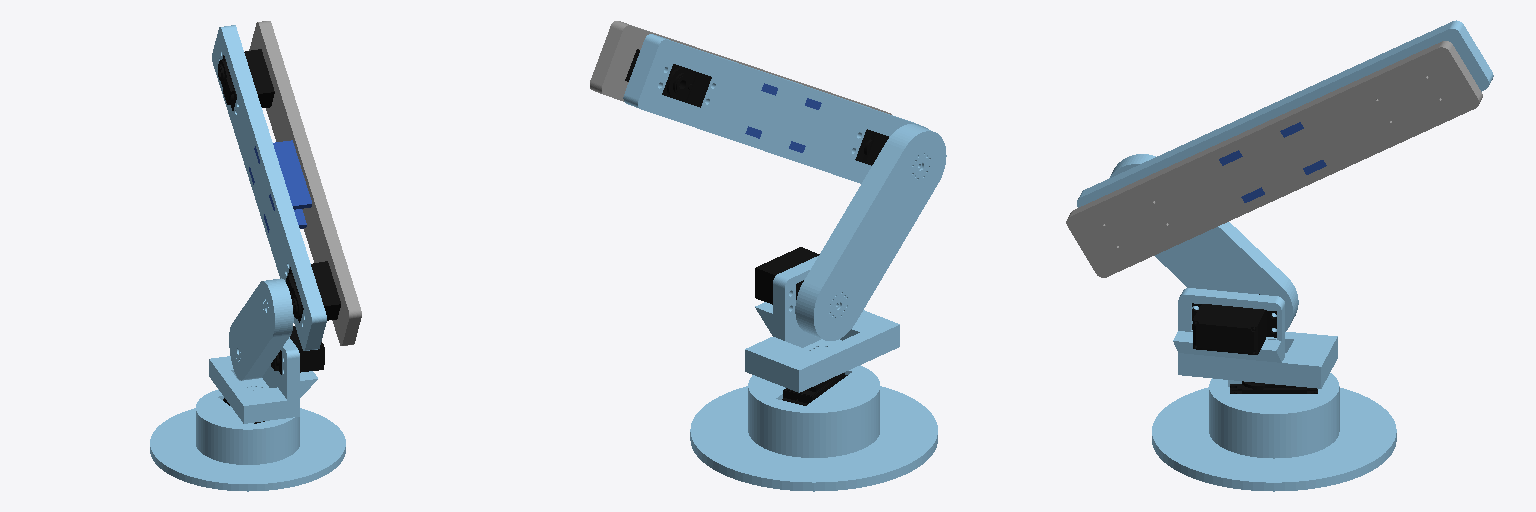
The robot description file, URDF, robot "my-robot-urdf":
<?xml version="1.0" ?>
<!-- Generated using onshape-to-robot -->
<!-- Onshape https://cad.onshape.com/documents/0de4613a5c9de88ea79adb1e/w/8792e248a8d8abb074fef312/e/2af6de9f4dabd1e46ce5ddd6 -->
<robot name="my-robot-urdf">
  <!-- Link base -->
  <link name="base">
    <inertial>
      <origin xyz="0 0 0" rpy="0 0 0"/>
      <mass value="1e-09"/>
      <inertia ixx="1e-09" ixy="0" ixz="0" iyy="1e-09" iyz="0" izz="1e-09"/>
    </inertial>
    <!-- Part base -->
    <visual>
      <origin xyz="0.054034 0.0421466 0.0127083" rpy="0 -0 0"/>
      <geometry>
        <mesh filename="package://perseus_arm/assets/base.stl"/>
      </geometry>
      <material name="base_material">
        <color rgba="0.615686 0.811765 0.929412 1"/>
      </material>
    </visual>
    <collision>
      <origin xyz="0.054034 0.0421466 0.0127083" rpy="0 -0 0"/>
      <geometry>
        <mesh filename="package://perseus_arm/assets/base.stl"/>
      </geometry>
    </collision>
  </link>
  <!-- Link compound -->
  <link name="compound">
    <inertial>
      <origin xyz="0 0 0" rpy="0 0 0"/>
      <mass value="1e-09"/>
      <inertia ixx="1e-09" ixy="0" ixz="0" iyy="1e-09" iyz="0" izz="1e-09"/>
    </inertial>
    <!-- Part compound -->
    <visual>
      <origin xyz="0.0345 -0.005 6.93889e-18" rpy="3.14159 -5.6e-16 0"/>
      <geometry>
        <mesh filename="package://perseus_arm/assets/compound.stl"/>
      </geometry>
      <material name="compound_material">
        <color rgba="0.0980392 0.0980392 0.0980392 1"/>
      </material>
    </visual>
    <collision>
      <origin xyz="0.0345 -0.005 6.93889e-18" rpy="3.14159 -5.6e-16 0"/>
      <geometry>
        <mesh filename="package://perseus_arm/assets/compound.stl"/>
      </geometry>
    </collision>
  </link>
  <!-- Link arm_round -->
  <link name="arm_round">
    <inertial>
      <origin xyz="0 0 0" rpy="0 0 0"/>
      <mass value="1e-09"/>
      <inertia ixx="1e-09" ixy="0" ixz="0" iyy="1e-09" iyz="0" izz="1e-09"/>
    </inertial>
    <!-- Part arm_round -->
    <visual>
      <origin xyz="0 0 -0.003" rpy="1.5708 -0 0"/>
      <geometry>
        <mesh filename="package://perseus_arm/assets/arm_round.stl"/>
      </geometry>
      <material name="arm_round_material">
        <color rgba="0.0980392 0.0980392 0.0980392 1"/>
      </material>
    </visual>
    <collision>
      <origin xyz="0 0 -0.003" rpy="1.5708 -0 0"/>
      <geometry>
        <mesh filename="package://perseus_arm/assets/arm_round.stl"/>
      </geometry>
    </collision>
  </link>
  <!-- Link shoulder -->
  <link name="shoulder">
    <inertial>
      <origin xyz="0 0 0" rpy="0 0 0"/>
      <mass value="1e-09"/>
      <inertia ixx="1e-09" ixy="0" ixz="0" iyy="1e-09" iyz="0" izz="1e-09"/>
    </inertial>
    <!-- Part shoulder -->
    <visual>
      <origin xyz="-6.93889e-18 0 0" rpy="3.14159 -6.77458e-33 -3.13047e-17"/>
      <geometry>
        <mesh filename="package://perseus_arm/assets/shoulder.stl"/>
      </geometry>
      <material name="shoulder_material">
        <color rgba="0.615686 0.811765 0.929412 1"/>
      </material>
    </visual>
    <collision>
      <origin xyz="-6.93889e-18 0 0" rpy="3.14159 -6.77458e-33 -3.13047e-17"/>
      <geometry>
        <mesh filename="package://perseus_arm/assets/shoulder.stl"/>
      </geometry>
    </collision>
  </link>
  <!-- Link compound_2 -->
  <link name="compound_2">
    <inertial>
      <origin xyz="0 0 0" rpy="0 0 0"/>
      <mass value="1e-09"/>
      <inertia ixx="1e-09" ixy="0" ixz="0" iyy="1e-09" iyz="0" izz="1e-09"/>
    </inertial>
    <!-- Part compound_2 -->
    <visual>
      <origin xyz="0.0345 0.005 -0.0024" rpy="4.87141e-32 5.41686e-16 4.43655e-33"/>
      <geometry>
        <mesh filename="package://perseus_arm/assets/compound.stl"/>
      </geometry>
      <material name="compound_2_material">
        <color rgba="0.0980392 0.0980392 0.0980392 1"/>
      </material>
    </visual>
    <collision>
      <origin xyz="0.0345 0.005 -0.0024" rpy="4.87141e-32 5.41686e-16 4.43655e-33"/>
      <geometry>
        <mesh filename="package://perseus_arm/assets/compound.stl"/>
      </geometry>
    </collision>
  </link>
  <!-- Link arm_round_2 -->
  <link name="arm_round_2">
    <inertial>
      <origin xyz="0 0 0" rpy="0 0 0"/>
      <mass value="1e-09"/>
      <inertia ixx="1e-09" ixy="0" ixz="0" iyy="1e-09" iyz="0" izz="1e-09"/>
    </inertial>
    <!-- Part arm_round_2 -->
    <visual>
      <origin xyz="-1.38778e-17 0 -0.003" rpy="1.5708 1.32224e-18 8.14935e-17"/>
      <geometry>
        <mesh filename="package://perseus_arm/assets/arm_round.stl"/>
      </geometry>
      <material name="arm_round_2_material">
        <color rgba="0.0980392 0.0980392 0.0980392 1"/>
      </material>
    </visual>
    <collision>
      <origin xyz="-1.38778e-17 0 -0.003" rpy="1.5708 1.32224e-18 8.14935e-17"/>
      <geometry>
        <mesh filename="package://perseus_arm/assets/arm_round.stl"/>
      </geometry>
    </collision>
  </link>
  <!-- Link upper_arm -->
  <link name="upper_arm">
    <inertial>
      <origin xyz="0 0 0" rpy="0 0 0"/>
      <mass value="1e-09"/>
      <inertia ixx="1e-09" ixy="0" ixz="0" iyy="1e-09" iyz="0" izz="1e-09"/>
    </inertial>
    <!-- Part upper_arm -->
    <visual>
      <origin xyz="0.0126322 0.015893 0" rpy="1.5708 -1.04909e-18 -4.63043e-17"/>
      <geometry>
        <mesh filename="package://perseus_arm/assets/upper_arm.stl"/>
      </geometry>
      <material name="upper_arm_material">
        <color rgba="0.615686 0.811765 0.929412 1"/>
      </material>
    </visual>
    <collision>
      <origin xyz="0.0126322 0.015893 0" rpy="1.5708 -1.04909e-18 -4.63043e-17"/>
      <geometry>
        <mesh filename="package://perseus_arm/assets/upper_arm.stl"/>
      </geometry>
    </collision>
  </link>
  <!-- Link arm_round_3 -->
  <link name="arm_round_3">
    <inertial>
      <origin xyz="0 0 0" rpy="0 0 0"/>
      <mass value="1e-09"/>
      <inertia ixx="1e-09" ixy="0" ixz="0" iyy="1e-09" iyz="0" izz="1e-09"/>
    </inertial>
    <!-- Part arm_round_3 -->
    <visual>
      <origin xyz="-4.16334e-17 0 -0.0033" rpy="-1.5708 1.75527e-18 -2.74975e-18"/>
      <geometry>
        <mesh filename="package://perseus_arm/assets/arm_round.stl"/>
      </geometry>
      <material name="arm_round_3_material">
        <color rgba="0.0980392 0.0980392 0.0980392 1"/>
      </material>
    </visual>
    <collision>
      <origin xyz="-4.16334e-17 0 -0.0033" rpy="-1.5708 1.75527e-18 -2.74975e-18"/>
      <geometry>
        <mesh filename="package://perseus_arm/assets/arm_round.stl"/>
      </geometry>
    </collision>
  </link>
  <!-- Link compound_3 -->
  <link name="compound_3">
    <inertial>
      <origin xyz="0 0 0" rpy="0 0 0"/>
      <mass value="1e-09"/>
      <inertia ixx="1e-09" ixy="0" ixz="0" iyy="1e-09" iyz="0" izz="1e-09"/>
    </inertial>
    <!-- Part compound_3 -->
    <visual>
      <origin xyz="0 0 -0.012" rpy="-6.6929e-18 -2.50789e-17 -6.47427e-17"/>
      <geometry>
        <mesh filename="package://perseus_arm/assets/compound.stl"/>
      </geometry>
      <material name="compound_3_material">
        <color rgba="0.0980392 0.0980392 0.0980392 1"/>
      </material>
    </visual>
    <collision>
      <origin xyz="0 0 -0.012" rpy="-6.6929e-18 -2.50789e-17 -6.47427e-17"/>
      <geometry>
        <mesh filename="package://perseus_arm/assets/compound.stl"/>
      </geometry>
    </collision>
  </link>
  <!-- Link top_servo_plate -->
  <link name="top_servo_plate">
    <inertial>
      <origin xyz="0 0 0" rpy="0 0 0"/>
      <mass value="1e-09"/>
      <inertia ixx="1e-09" ixy="0" ixz="0" iyy="1e-09" iyz="0" izz="1e-09"/>
    </inertial>
    <!-- Part top_servo_plate -->
    <visual>
      <origin xyz="-0.2645 0.0275 -0.005" rpy="-1.5708 3.38358e-16 -3.14159"/>
      <geometry>
        <mesh filename="package://perseus_arm/assets/top_servo_plate.stl"/>
      </geometry>
      <material name="top_servo_plate_material">
        <color rgba="0.615686 0.811765 0.929412 1"/>
      </material>
    </visual>
    <collision>
      <origin xyz="-0.2645 0.0275 -0.005" rpy="-1.5708 3.38358e-16 -3.14159"/>
      <geometry>
        <mesh filename="package://perseus_arm/assets/top_servo_plate.stl"/>
      </geometry>
    </collision>
  </link>
  <!-- Link compound_4 -->
  <link name="compound_4">
    <inertial>
      <origin xyz="0 0 0" rpy="0 0 0"/>
      <mass value="1e-09"/>
      <inertia ixx="1e-09" ixy="0" ixz="0" iyy="1e-09" iyz="0" izz="1e-09"/>
    </inertial>
    <!-- Part compound_4 -->
    <visual>
      <origin xyz="-0.0145 0.005 -0.0024" rpy="3.30922e-18 5.83194e-16 -4.64134e-17"/>
      <geometry>
        <mesh filename="package://perseus_arm/assets/compound.stl"/>
      </geometry>
      <material name="compound_4_material">
        <color rgba="0.0980392 0.0980392 0.0980392 1"/>
      </material>
    </visual>
    <collision>
      <origin xyz="-0.0145 0.005 -0.0024" rpy="3.30922e-18 5.83194e-16 -4.64134e-17"/>
      <geometry>
        <mesh filename="package://perseus_arm/assets/compound.stl"/>
      </geometry>
    </collision>
  </link>
  <!-- Joint from top_servo_plate to compound_4 -->
  <joint name="fixedplate" type="fixed">
    <origin xyz="-0.2495 -1.55431e-15 -2.35922e-16" rpy="3.14159 1.21981e-16 -3.14159"/>
    <parent link="top_servo_plate"/>
    <child link="compound_4"/>
    <axis xyz="0 0 1"/>
    <limit effort="10" velocity="10"/>
  </joint>
  <!-- Link piece -->
  <link name="piece">
    <inertial>
      <origin xyz="0 0 0" rpy="0 0 0"/>
      <mass value="1e-09"/>
      <inertia ixx="1e-09" ixy="0" ixz="0" iyy="1e-09" iyz="0" izz="1e-09"/>
    </inertial>
    <!-- Part piece -->
    <visual>
      <origin xyz="0.210904 0.005 0.0201656" rpy="-1.13365e-17 1.4195e-17 1.34236e-16"/>
      <geometry>
        <mesh filename="package://perseus_arm/assets/piece.stl"/>
      </geometry>
      <material name="piece_material">
        <color rgba="0.231373 0.380392 0.705882 1"/>
      </material>
    </visual>
    <collision>
      <origin xyz="0.210904 0.005 0.0201656" rpy="-1.13365e-17 1.4195e-17 1.34236e-16"/>
      <geometry>
        <mesh filename="package://perseus_arm/assets/piece.stl"/>
      </geometry>
    </collision>
  </link>
  <!-- Link bottom_servo_plate -->
  <link name="bottom_servo_plate">
    <inertial>
      <origin xyz="0 0 0" rpy="0 0 0"/>
      <mass value="1e-09"/>
      <inertia ixx="1e-09" ixy="0" ixz="0" iyy="1e-09" iyz="0" izz="1e-09"/>
    </inertial>
    <!-- Part bottom_servo_plate -->
    <visual>
      <origin xyz="0.0500232 -0.122817 0.005" rpy="1.5708 5.92227e-18 -3.28032e-17"/>
      <geometry>
        <mesh filename="package://perseus_arm/assets/bottom_servo_plate.stl"/>
      </geometry>
      <material name="bottom_servo_plate_material">
        <color rgba="0.647059 0.647059 0.647059 1"/>
      </material>
    </visual>
    <collision>
      <origin xyz="0.0500232 -0.122817 0.005" rpy="1.5708 5.92227e-18 -3.28032e-17"/>
      <geometry>
        <mesh filename="package://perseus_arm/assets/bottom_servo_plate.stl"/>
      </geometry>
    </collision>
  </link>
  <!-- Joint from piece to bottom_servo_plate -->
  <joint name="backforearm" type="fixed">
    <origin xyz="2.77556e-17 2.77556e-17 -0.029" rpy="3.14159 -6.27391e-15 2.55944e-16"/>
    <parent link="piece"/>
    <child link="bottom_servo_plate"/>
    <axis xyz="0 0 1"/>
    <limit effort="10" velocity="10"/>
  </joint>
  <!-- Joint from top_servo_plate to piece -->
  <joint name="piece1" type="fixed">
    <origin xyz="-0.10975 -0.0114012 0.001" rpy="3.14159 4.65819e-17 -3.14159"/>
    <parent link="top_servo_plate"/>
    <child link="piece"/>
    <axis xyz="0 0 1"/>
    <limit effort="10" velocity="10"/>
  </joint>
  <!-- Link piece_2 -->
  <link name="piece_2">
    <inertial>
      <origin xyz="0 0 0" rpy="0 0 0"/>
      <mass value="1e-09"/>
      <inertia ixx="1e-09" ixy="0" ixz="0" iyy="1e-09" iyz="0" izz="1e-09"/>
    </inertial>
    <!-- Part piece_2 -->
    <visual>
      <origin xyz="0.210904 0.005 0.0201656" rpy="5.22145e-18 -2.99917e-17 4.66215e-18"/>
      <geometry>
        <mesh filename="package://perseus_arm/assets/piece.stl"/>
      </geometry>
      <material name="piece_2_material">
        <color rgba="0.231373 0.380392 0.705882 1"/>
      </material>
    </visual>
    <collision>
      <origin xyz="0.210904 0.005 0.0201656" rpy="5.22145e-18 -2.99917e-17 4.66215e-18"/>
      <geometry>
        <mesh filename="package://perseus_arm/assets/piece.stl"/>
      </geometry>
    </collision>
  </link>
  <!-- Joint from top_servo_plate to piece_2 -->
  <joint name="piece2" type="fixed">
    <origin xyz="-0.10975 0.0164 0.001" rpy="3.14159 8.53813e-17 3.14159"/>
    <parent link="top_servo_plate"/>
    <child link="piece_2"/>
    <axis xyz="0 0 1"/>
    <limit effort="10" velocity="10"/>
  </joint>
  <!-- Joint from compound_3 to top_servo_plate -->
  <joint name="fixedforearm" type="fixed">
    <origin xyz="0.0145 0.005 -0.0096" rpy="3.14159 -6.0477e-16 -6.47427e-17"/>
    <parent link="compound_3"/>
    <child link="top_servo_plate"/>
    <axis xyz="0 0 1"/>
    <limit effort="10" velocity="10"/>
  </joint>
  <!-- Joint from arm_round_3 to compound_3 -->
  <joint name="elbow" type="revolute">
    <origin xyz="-1.38778e-16 1.38778e-16 -0.0063" rpy="-1.25602e-15 -7.4877e-15 -2.85351"/>
    <parent link="arm_round_3"/>
    <child link="compound_3"/>
    <axis xyz="0 0 1"/>
    <limit effort="10" velocity="10" lower="-3.141592653589793" upper="3.141592653589793"/>
  </joint>
  <!-- Joint from upper_arm to arm_round_3 -->
  <joint name="fixedelbowservo" type="fixed">
    <origin xyz="-0.0999979 -5.59052e-05 3.46945e-17" rpy="-3.14159 1.01027e-15 1.5708"/>
    <parent link="upper_arm"/>
    <child link="arm_round_3"/>
    <axis xyz="0 0 1"/>
    <limit effort="10" velocity="10"/>
  </joint>
  <!-- Joint from arm_round_2 to upper_arm -->
  <joint name="fixedarm" type="fixed">
    <origin xyz="-8.32667e-17 -2.08167e-17 -0.0063" rpy="-5.97175e-17 -6.67336e-16 -1.5708"/>
    <parent link="arm_round_2"/>
    <child link="upper_arm"/>
    <axis xyz="0 0 1"/>
    <limit effort="10" velocity="10"/>
  </joint>
  <!-- Joint from compound_2 to arm_round_2 -->
  <joint name="shoulder" type="revolute">
    <origin xyz="0.0345 0.005 0.0096" rpy="-3.14159 -8.57676e-16 -0.825352"/>
    <parent link="compound_2"/>
    <child link="arm_round_2"/>
    <axis xyz="0 0 1"/>
    <limit effort="10" velocity="10" lower="-3.141592653589793" upper="3.141592653589793"/>
  </joint>
  <!-- Joint from shoulder to compound_2 -->
  <joint name="baserotate" type="fixed">
    <origin xyz="0.0175 0.0345 -0.0449697" rpy="1.5708 -9.2829e-25 -1.5708"/>
    <parent link="shoulder"/>
    <child link="compound_2"/>
    <axis xyz="0 0 1"/>
    <limit effort="10" velocity="10"/>
  </joint>
  <!-- Joint from arm_round to shoulder -->
  <joint name="base" type="revolute">
    <origin xyz="3.08781e-15 -1.9984e-15 -0.0063" rpy="-1.70692e-16 -3.30003e-17 0.223241"/>
    <parent link="arm_round"/>
    <child link="shoulder"/>
    <axis xyz="0 0 1"/>
    <limit effort="10" velocity="10" lower="-3.141592653589793" upper="3.141592653589793"/>
  </joint>
  <!-- Joint from compound to arm_round -->
  <joint name="fixedservo_base" type="fixed">
    <origin xyz="0.0345 -0.005 -0.012" rpy="6.16936e-16 -0 -1.5708"/>
    <parent link="compound"/>
    <child link="arm_round"/>
    <axis xyz="0 0 1"/>
    <limit effort="10" velocity="10"/>
  </joint>
  <!-- Joint from base to compound -->
  <joint name="fixedbase" type="fixed">
    <origin xyz="0.049034 0.0666466 0.0377083" rpy="3.14159 -0 -1.5708"/>
    <parent link="base"/>
    <child link="compound"/>
    <axis xyz="0 0 1"/>
    <limit effort="10" velocity="10"/>
  </joint>
</robot>

--- What the picture shows (computed from the rendered views, not written in the file) ---
3 views of the same robot in one strip: view 1: azimuth 30°, elevation 25°; view 2: azimuth 150°, elevation 25°; view 3: azimuth 270°, elevation 25° (orthographic).
Robot: my-robot-urdf — 14 links, 13 joints (3 revolute, 10 fixed); root link base; default pose: every joint at zero.
Links seen in each view (by area): view 1: base, top_servo_plate, bottom_servo_plate, shoulder, upper_arm, compound_4, piece, compound_3, compound_2; view 2: base, top_servo_plate, upper_arm, shoulder, bottom_servo_plate, compound_4, compound_2, compound, compound_3; view 3: bottom_servo_plate, base, shoulder, top_servo_plate, upper_arm, compound_2, compound.
Link boxes in pixels (<box>): base: <box>150,389,345,491</box>; top_servo_plate: <box>212,25,326,350</box>; bottom_servo_plate: <box>249,21,361,345</box>; shoulder: <box>209,337,317,423</box>; upper_arm: <box>229,278,293,380</box>; compound_4: <box>218,49,274,110</box>; piece: <box>254,140,311,210</box>; compound_3: <box>286,261,340,322</box>; compound_2: <box>271,326,324,374</box>; base: <box>690,365,937,491</box>; top_servo_plate: <box>623,34,928,183</box>; upper_arm: <box>795,124,946,340</box>; shoulder: <box>745,256,899,392</box>; bottom_servo_plate: <box>590,21,891,114</box>; compound_4: <box>625,49,711,107</box>; compound_2: <box>755,247,819,304</box>; compound: <box>782,373,847,405</box>; compound_3: <box>855,129,888,165</box>; bottom_servo_plate: <box>1066,41,1482,277</box>; base: <box>1152,373,1396,491</box>; shoulder: <box>1173,288,1337,388</box>; top_servo_plate: <box>1077,20,1493,207</box>; upper_arm: <box>1110,154,1298,331</box>; compound_2: <box>1192,303,1276,354</box>; compound: <box>1230,381,1317,393</box>.
Size in the robot's own frame: 0.1596 by 0.2619 by 0.3025 metres.
14 mesh visuals loaded from 8 distinct referenced files (8 binary STL).
